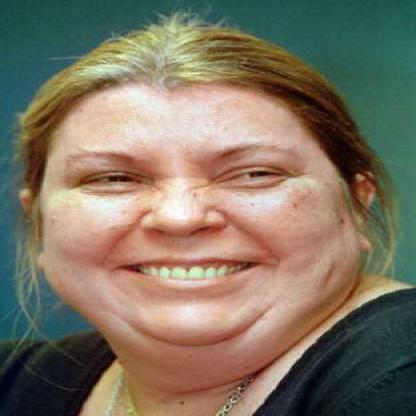face: (28, 37, 350, 352)
